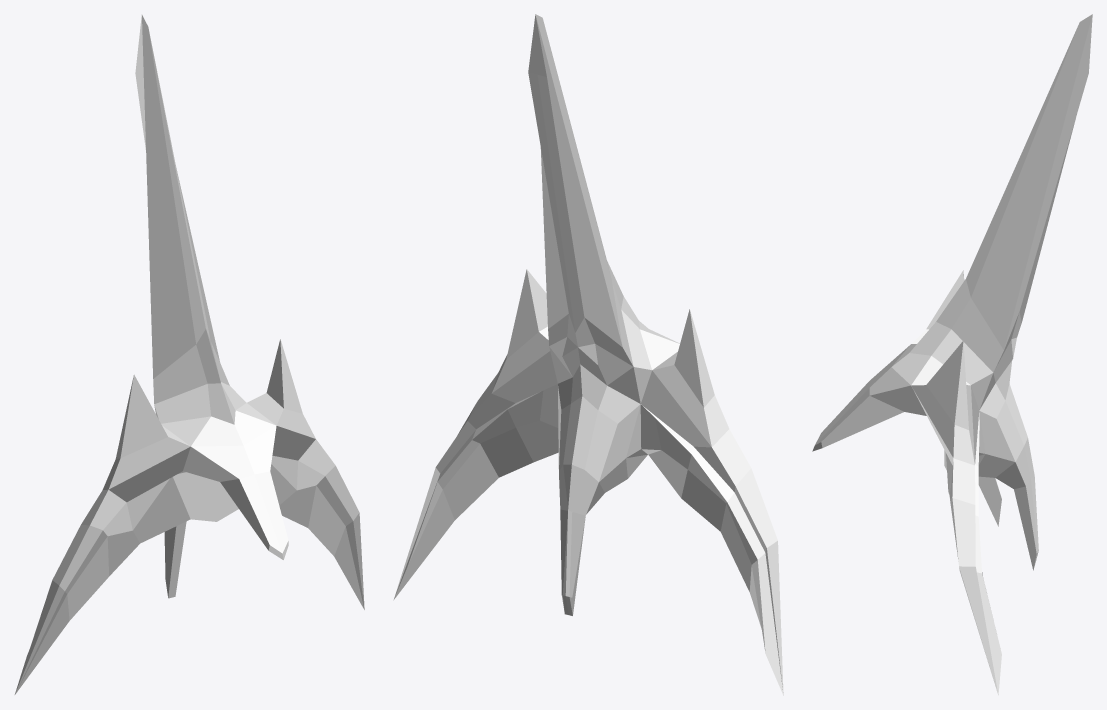
The model's file is head_44.fbx.
The picture shows the model from 3 angles, left to right: view 1: azimuth 30°, elevation 25°; view 2: azimuth 150°, elevation 25°; view 3: azimuth 270°, elevation 25°; orthographic projection. The views are drawn at different scales.
Parts seen in each view (by area): view 1: Cube.175; view 2: Cube.175; view 3: Cube.175.
Boxes of the visible parts, x1=… form: Cube.175: x1=14, y1=14, x2=364, y2=694; Cube.175: x1=393, y1=14, x2=783, y2=695; Cube.175: x1=812, y1=14, x2=1092, y2=695.
Size of the model in its own units: 116 by 192 by 81.66.
